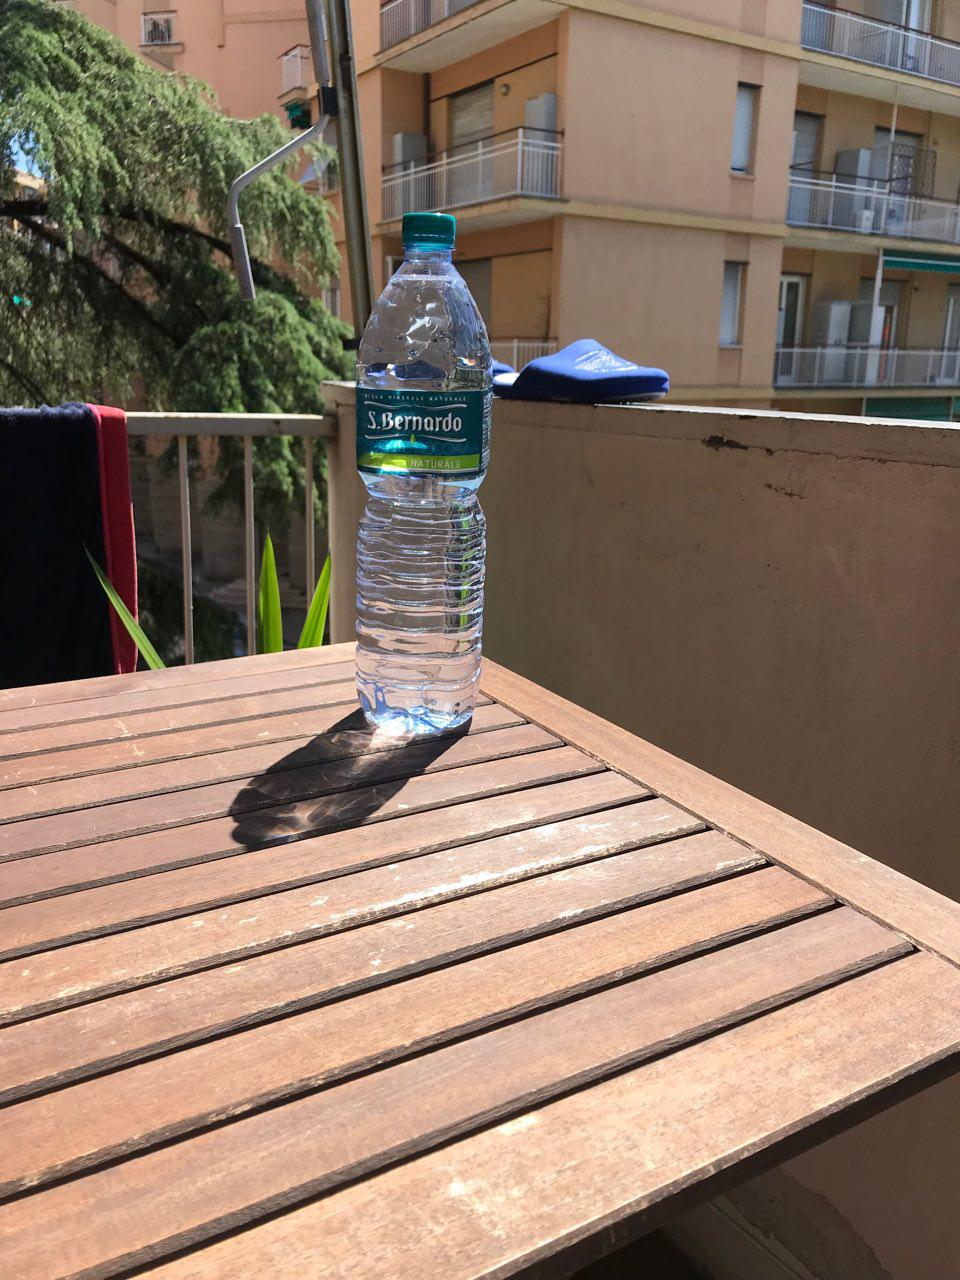san_bernardo: (355, 209, 494, 736)
